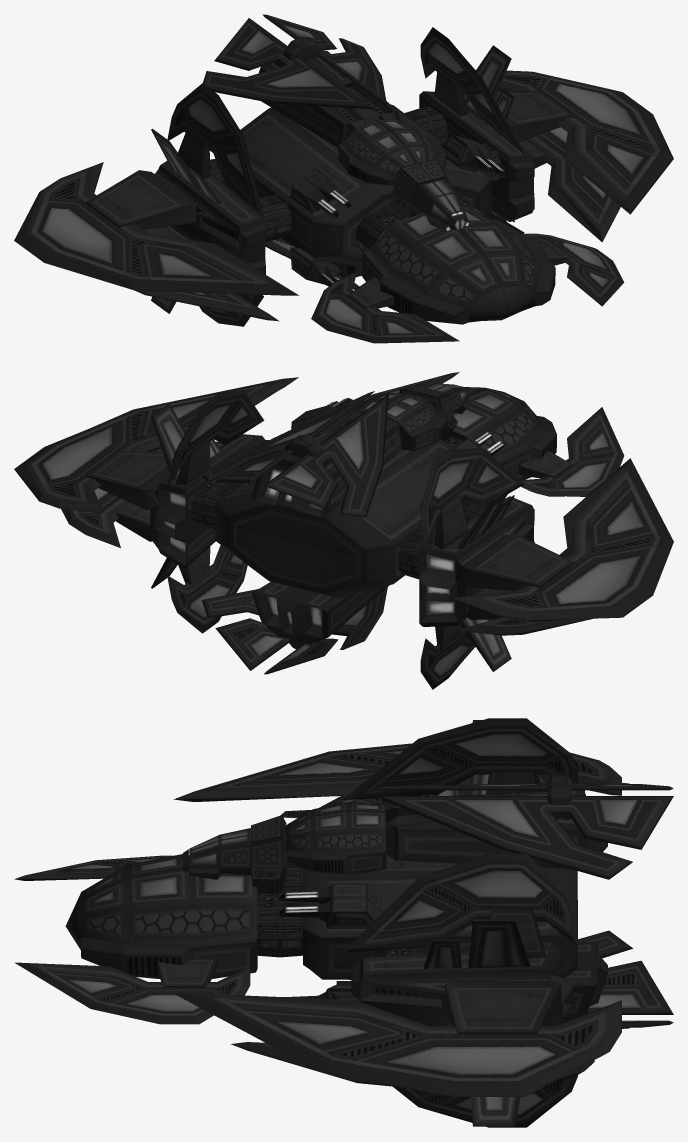
File: astraTalonFleet_BattleshipA.FBX
3 views of the same model, one above another, from view 1: azimuth 30°, elevation 25°; view 2: azimuth 150°, elevation 25°; view 3: azimuth 270°, elevation 25° (orthographic). The views are drawn at different scales.
Visible parts, largest first — view 1: BattleshipAModel; view 2: BattleshipAModel; view 3: BattleshipAModel.
Boxes of the visible parts, box(x1,y1,x2,y2) form: BattleshipAModel: box(14, 14, 673, 343); BattleshipAModel: box(14, 372, 673, 689); BattleshipAModel: box(14, 718, 673, 1127).
Size of the model in its own units: 1986 by 1553 by 732.
